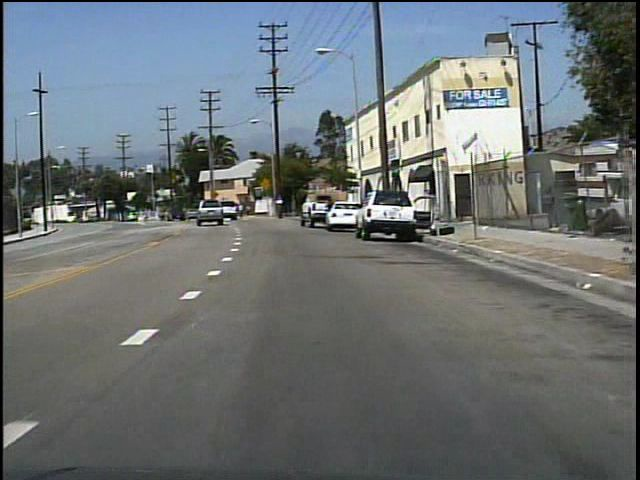person: (236, 200, 247, 221), (245, 202, 254, 220)
